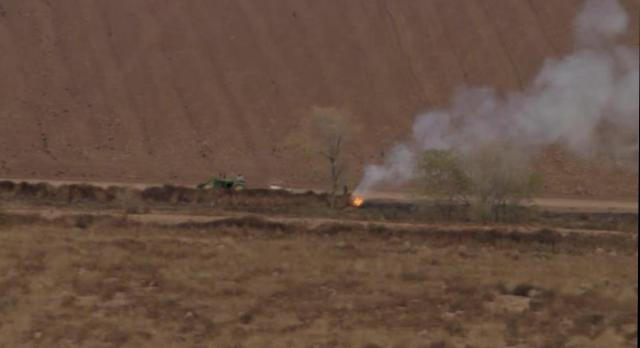fire: (351, 190, 366, 208)
